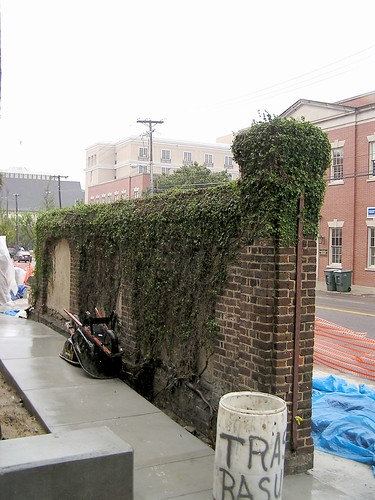building: (283, 95, 375, 279), (81, 136, 241, 193)
graffiti: (213, 429, 293, 500)
pushcart: (58, 306, 129, 387)
sky: (1, 1, 343, 131)
trash can: (319, 261, 354, 293)
wall: (39, 140, 319, 406)
